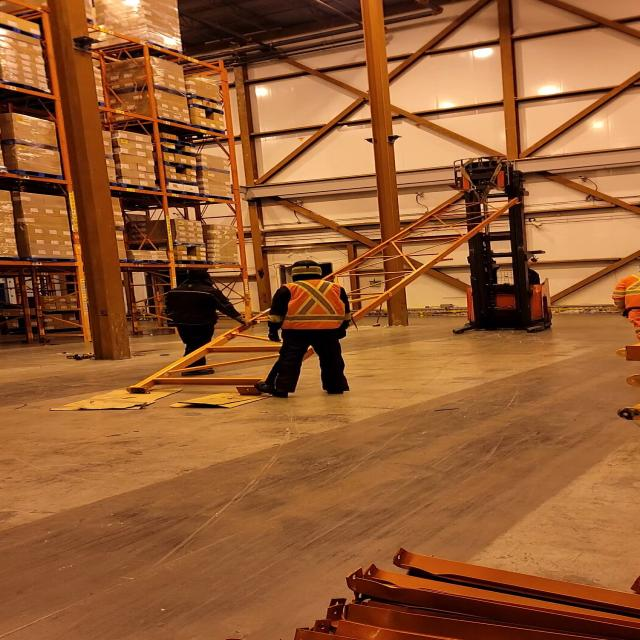forklift: (450, 189, 556, 336)
human: (254, 258, 356, 398), (158, 268, 250, 378), (602, 260, 640, 344), (498, 262, 549, 290)
objectofinterest: (116, 195, 529, 398), (41, 381, 187, 413), (165, 387, 276, 411)
